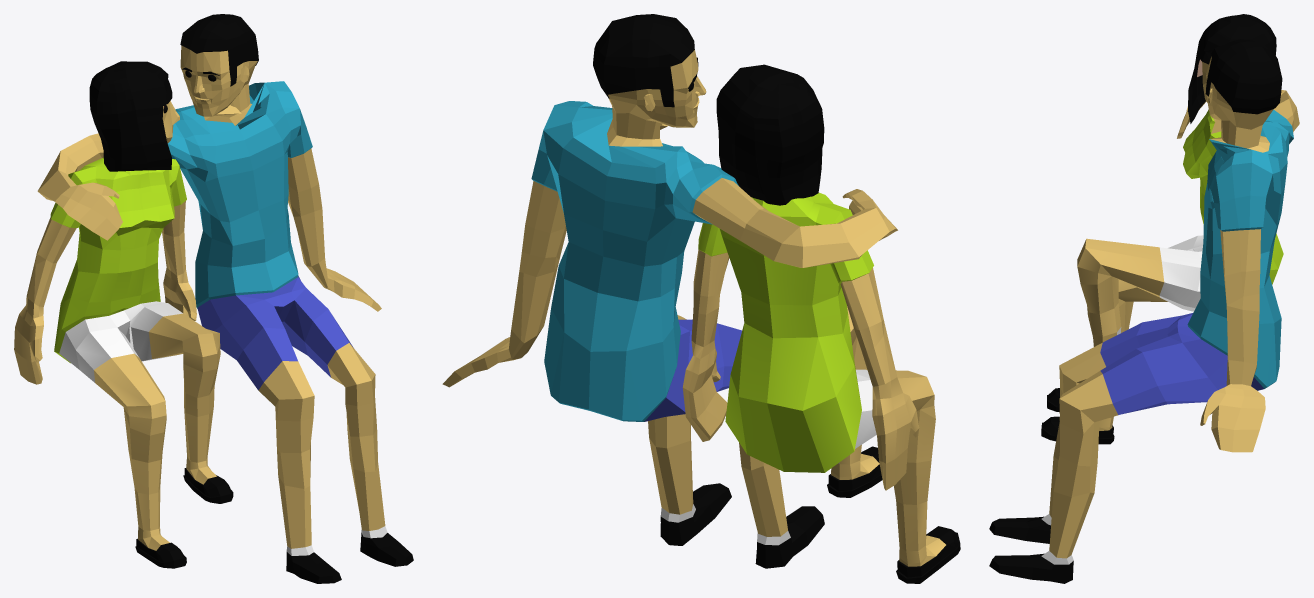
File: Couple_2.fbx
3 views of the same model, side by side, from view 1: azimuth 30°, elevation 25°; view 2: azimuth 150°, elevation 25°; view 3: azimuth 270°, elevation 25° (orthographic). The views are drawn at different scales.
Visible parts, largest first — view 1: Guy2, Woman; view 2: Guy2, Woman; view 3: Guy2, Woman.
Part boxes in pixels (x1,y1,x2,y2): Guy2: (37, 14, 413, 583); Woman: (14, 61, 233, 568); Guy2: (442, 14, 897, 568); Woman: (682, 64, 960, 583); Guy2: (989, 39, 1299, 583); Woman: (1041, 14, 1283, 444).
Size of the model in its own units: 3.17 by 4.17 by 2.33.
